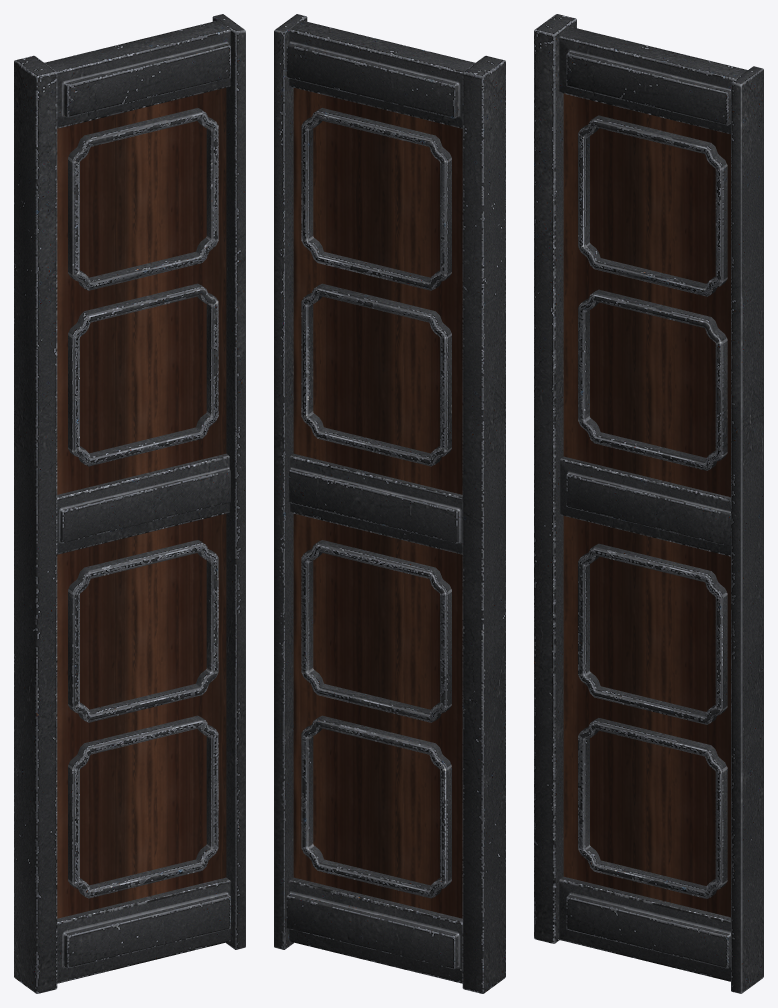
The model's file is Door_B_left.fbx.
3 views of the same model, side by side, from view 1: azimuth 30°, elevation 25°; view 2: azimuth 150°, elevation 25°; view 3: azimuth 330°, elevation 25° (orthographic).
Parts seen in each view (by area): view 1: Door_B_left; view 2: Door_B_left; view 3: Door_B_left.
Part boxes in pixels (box(x1,y1,x2,y2)): Door_B_left: box(14, 14, 245, 993); Door_B_left: box(274, 14, 505, 993); Door_B_left: box(534, 14, 763, 993).
Bounding box in the file's own units: 1.08 × 4.52 × 0.2064.
